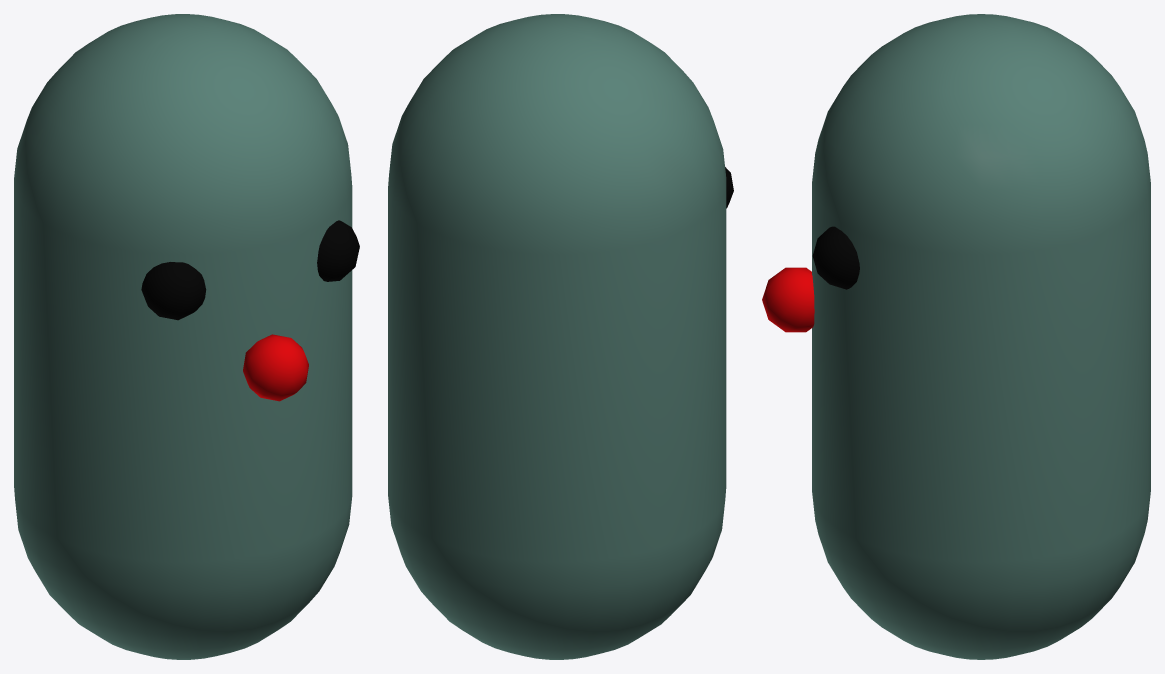
File: Bean.fbx
The picture shows the model from 3 angles, left to right: view 1: azimuth 30°, elevation 25°; view 2: azimuth 150°, elevation 25°; view 3: azimuth 270°, elevation 25°; orthographic projection.
Visible parts, largest first — view 1: Cylinder; view 2: Cylinder; view 3: Cylinder.
Boxes of the visible parts, bbox=[...] form: Cylinder: bbox=[14, 14, 359, 659]; Cylinder: bbox=[388, 14, 733, 659]; Cylinder: bbox=[762, 14, 1150, 659].
Size of the model in its own units: 100 by 200 by 115.
